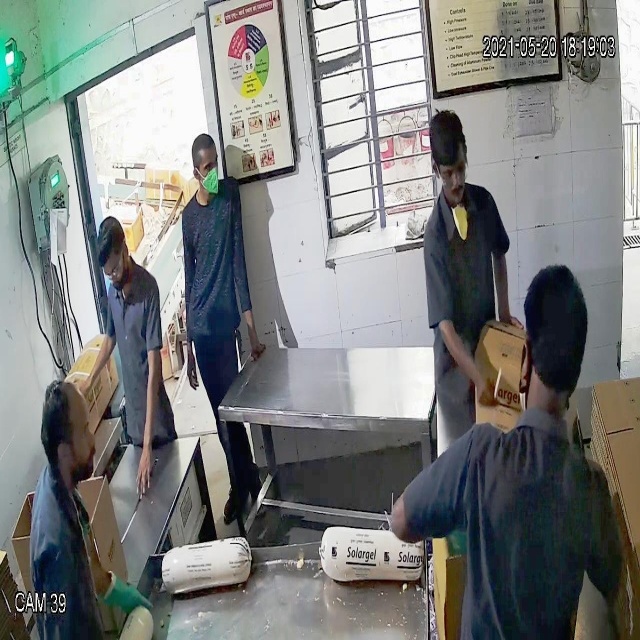Gafas: (433, 159, 469, 187), (102, 253, 127, 283)
Sin_gafas: (192, 156, 222, 179)
